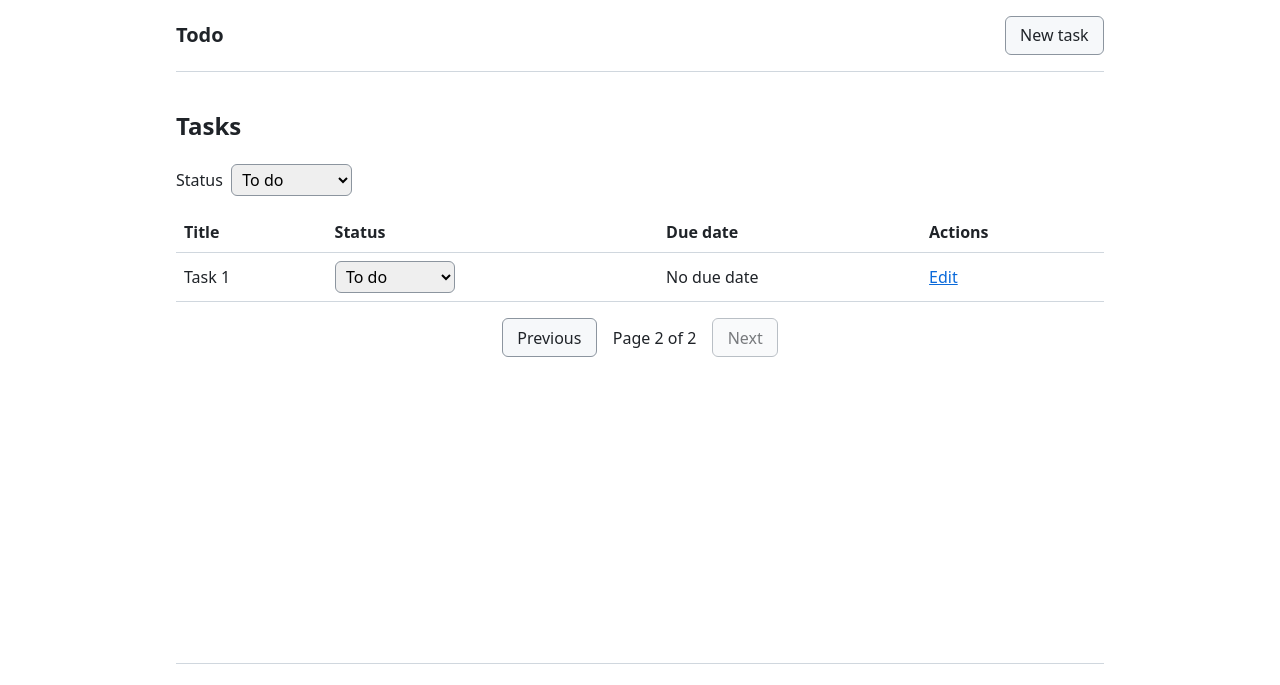
SCRUM-6 task list status › SCRUM-6-AC-10: when the change empties the last filtered page the list moves to the new last page
Select "Done" in the dropdown named "Status for Task 1". click: (395, 277)
box: [335,261,455,293]
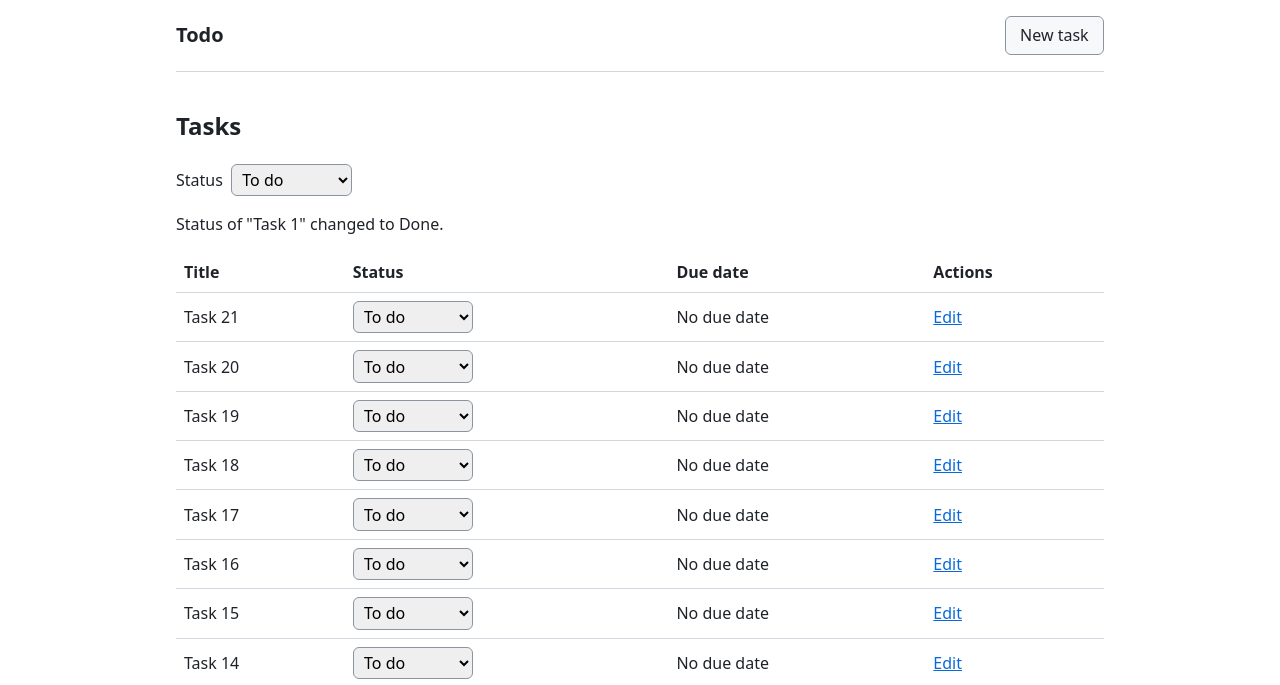
Expected: the dropdown named "Status for Task 21" is shown, [353,301,474,333]
Expected: the message reads "Status of \"Task 1\" changed to Done.", [176,213,444,235]
